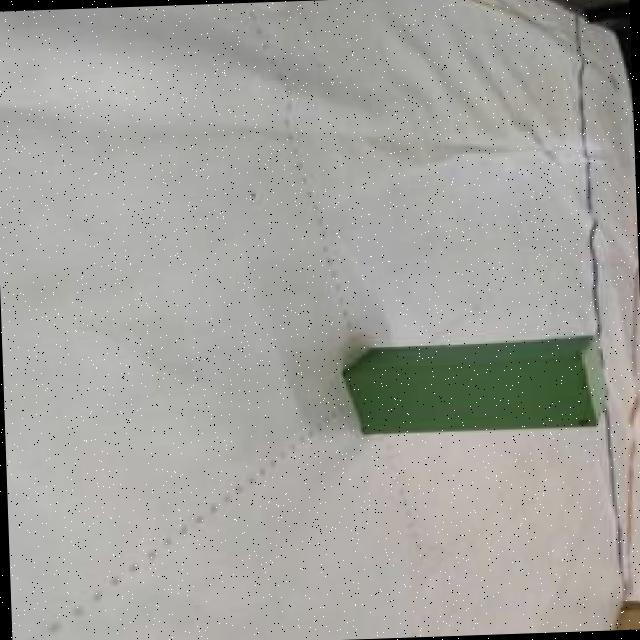greenbox: (337, 333, 610, 438)
